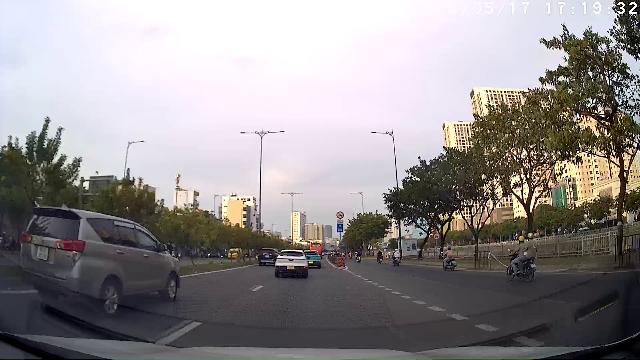103a-cam-oto: (434, 232, 441, 240)
